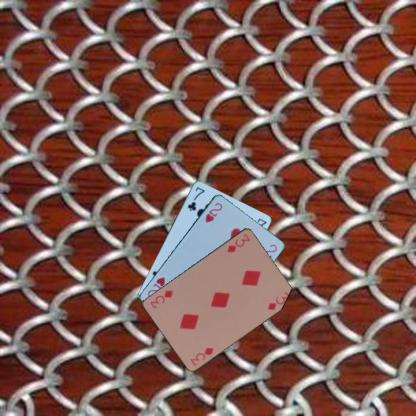2h: (202, 200, 224, 224)
3d: (225, 231, 251, 254), (188, 344, 214, 367)
7c: (185, 184, 206, 212)
